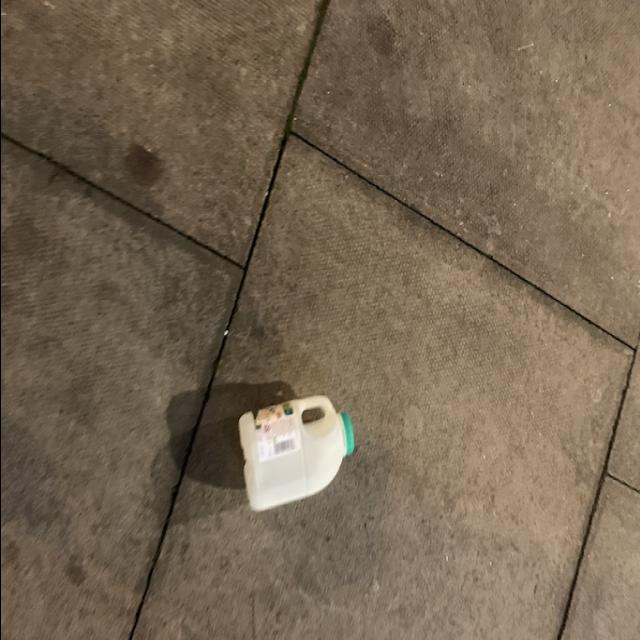litter: (227, 394, 357, 518)
